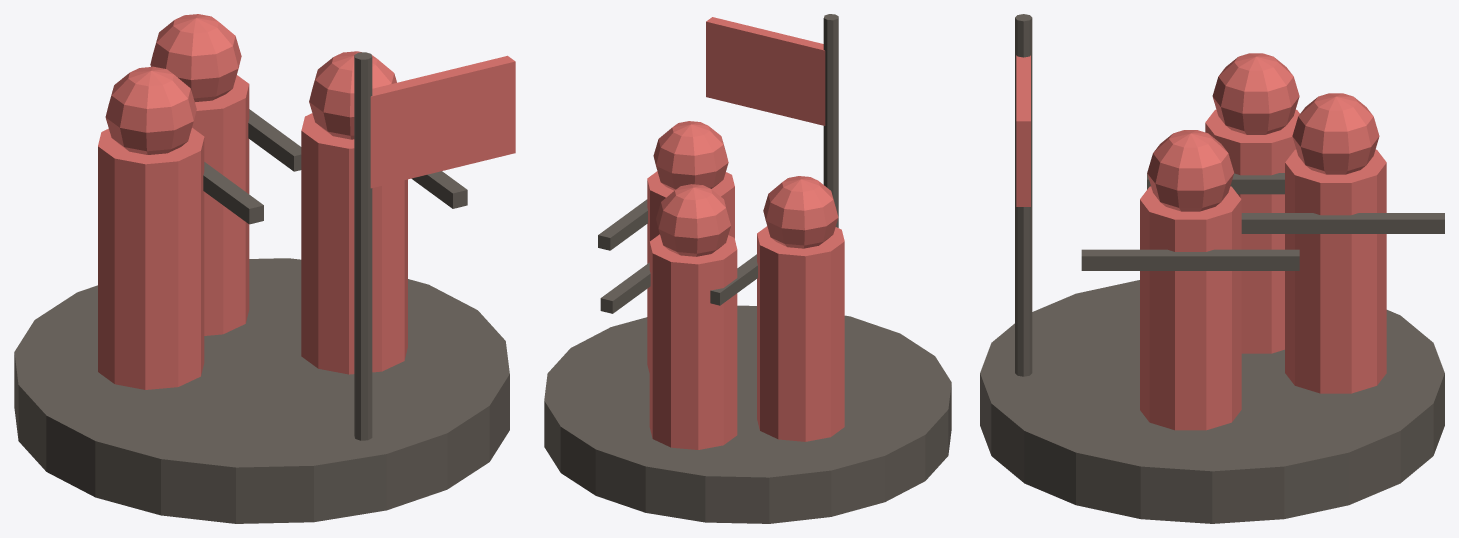
The model's file is soldier.glb.
3 renders of one model, left to right at view 1: azimuth 30°, elevation 25°; view 2: azimuth 150°, elevation 25°; view 3: azimuth 270°, elevation 25°, orthographic. The views are drawn at different scales.
Parts seen in each view (by area): view 1: Infantry_v2; view 2: Infantry_v2; view 3: Infantry_v2.
Part boxes in pixels (x1,y1,x2,y2): Infantry_v2: (14,14,515,523); Infantry_v2: (544,14,951,523); Infantry_v2: (980,14,1444,523).
Bounding box in the file's own units: 0.64 × 0.62 × 0.64.
